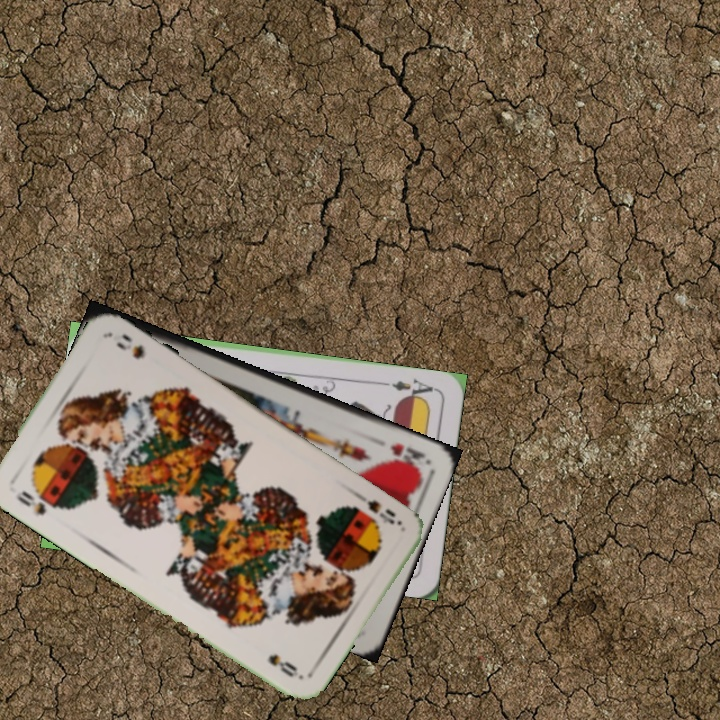EA: (380, 375, 439, 403)
HK: (387, 439, 430, 471)
SO: (351, 488, 399, 528), (12, 486, 49, 518)
